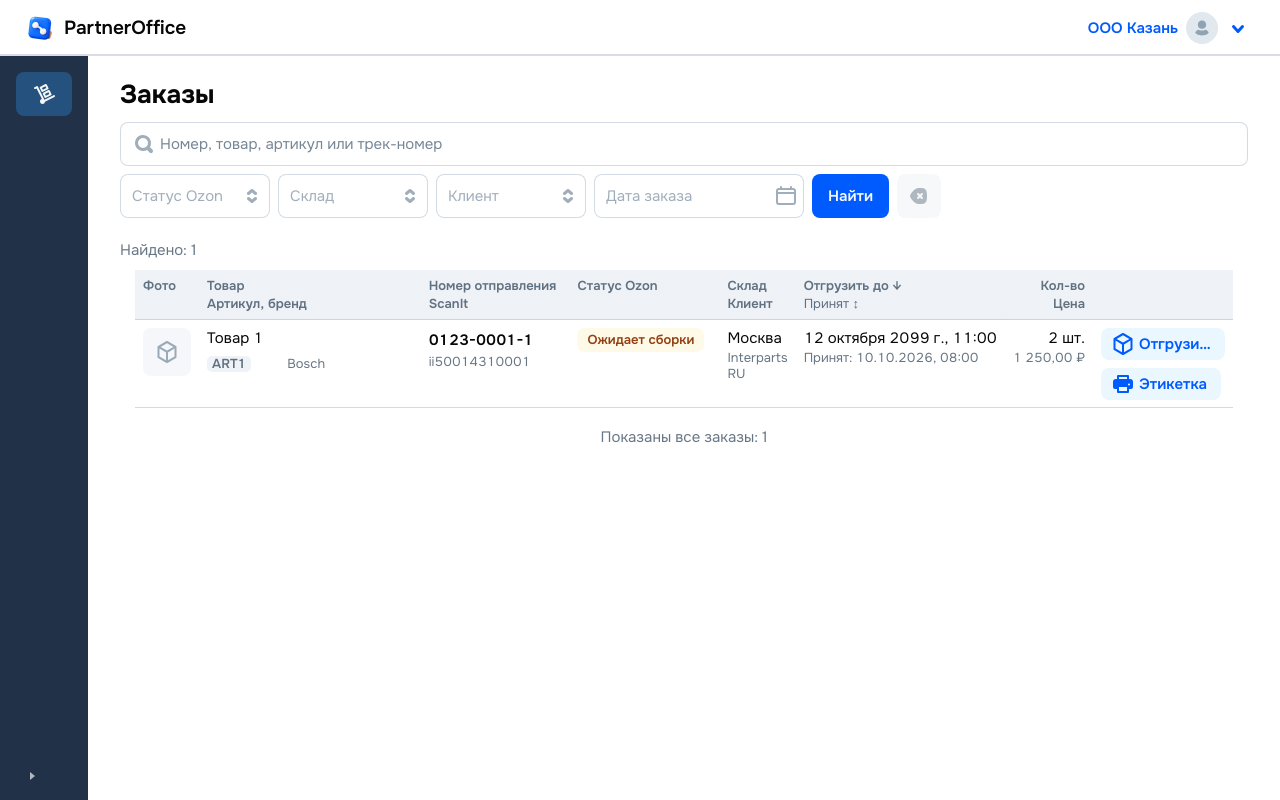
Test case: Отгрузка › отказ Ozon показывает причины и ничего не скрывает
Step 1. Click the button "Отгрузить" → [1163, 344], box x1=1101 y1=328 x2=1225 y2=360
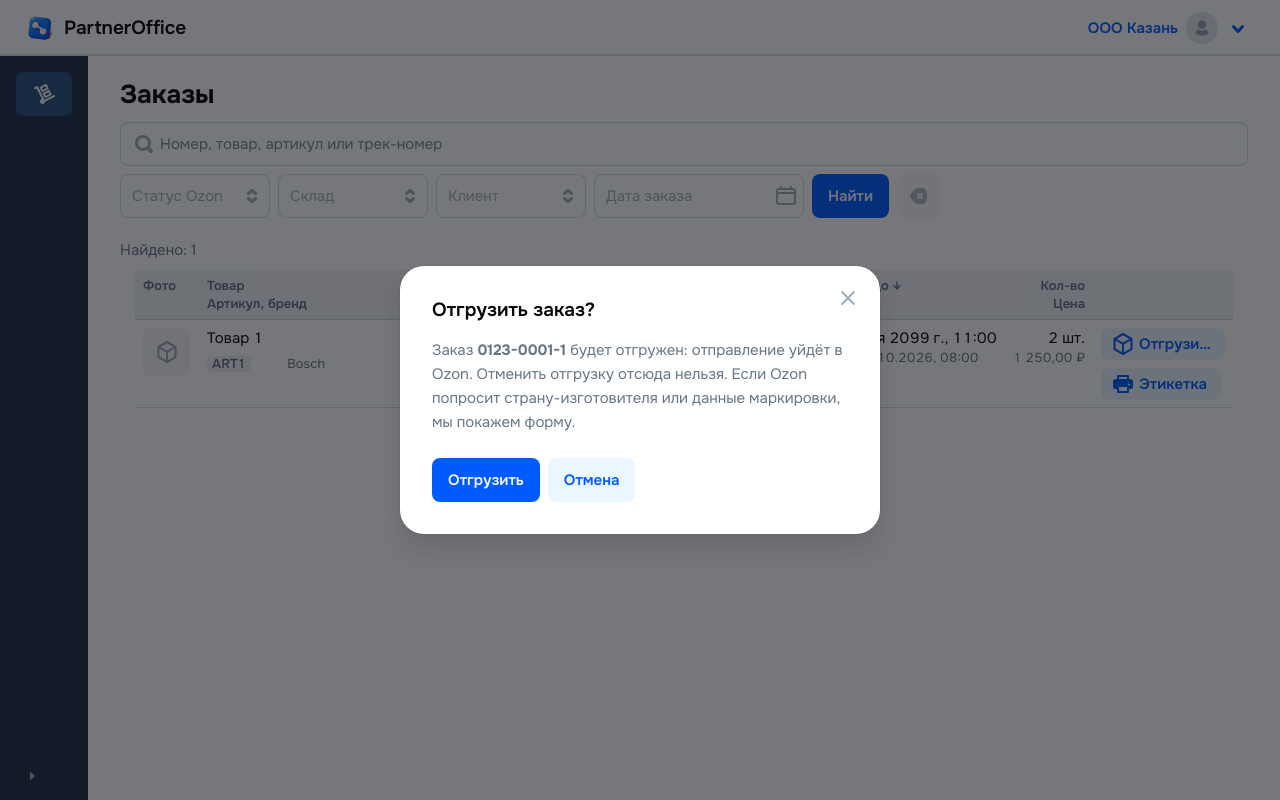
Step 2. Click the button "Отгрузить" → [486, 480], box x1=432 y1=458 x2=540 y2=502
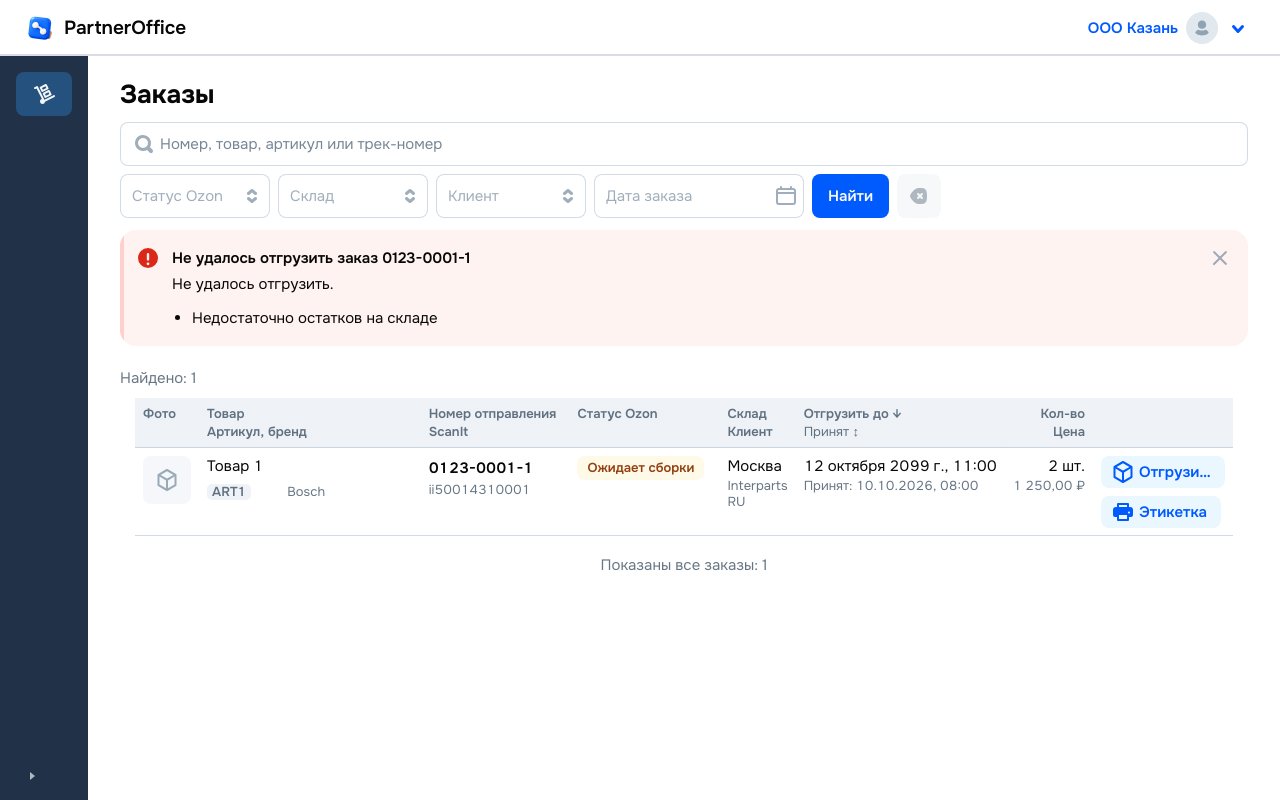
Result: the text "Не удалось отгрузить заказ 0123-0001-1" is shown at x1=172 y1=246 x2=470 y2=270
Result: the list item "Недостаточно остатков на складе" is shown at x1=192 y1=306 x2=470 y2=330
